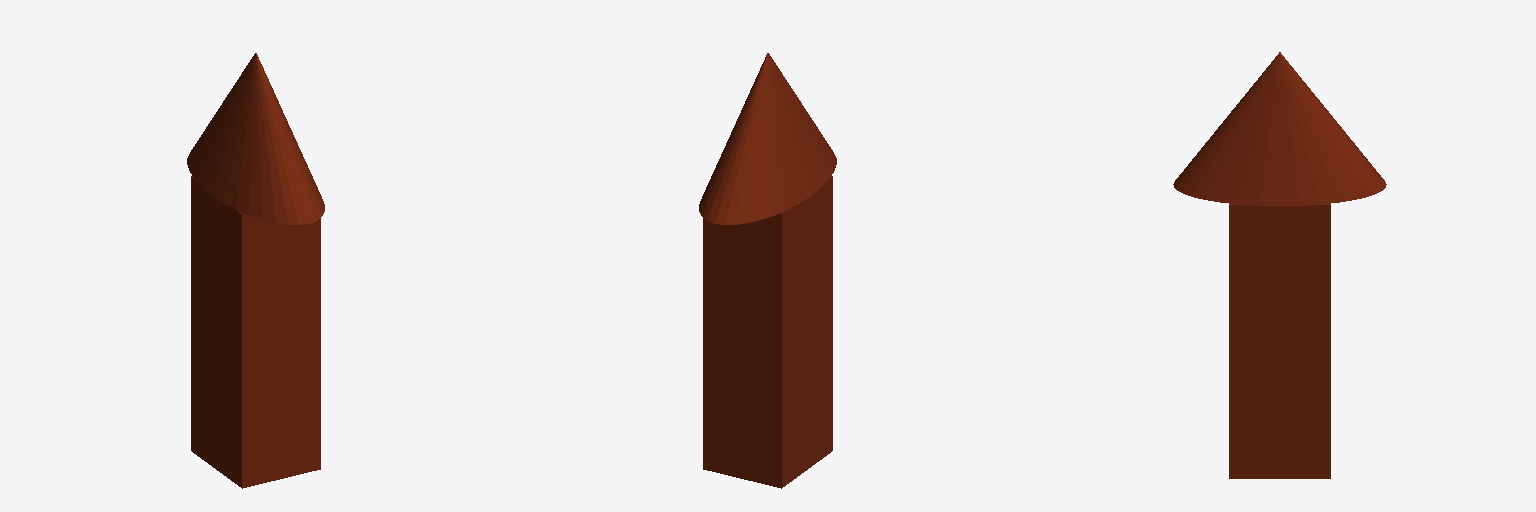
File: yazi.obj
The picture shows the model from 3 angles: view 1: azimuth 30°, elevation 25°; view 2: azimuth 150°, elevation 25°; view 3: azimuth 270°, elevation 25°; orthographic projection.
Visible parts, largest first — view 1: Cube; view 2: Cube; view 3: Cube.
Boxes of the visible parts, box(x1,y1,x2,y2) form: Cube: box(187, 53, 324, 488); Cube: box(699, 53, 836, 488); Cube: box(1173, 52, 1386, 478).
Bounding box in the file's own units: 0.9478 × 4.22 × 2.